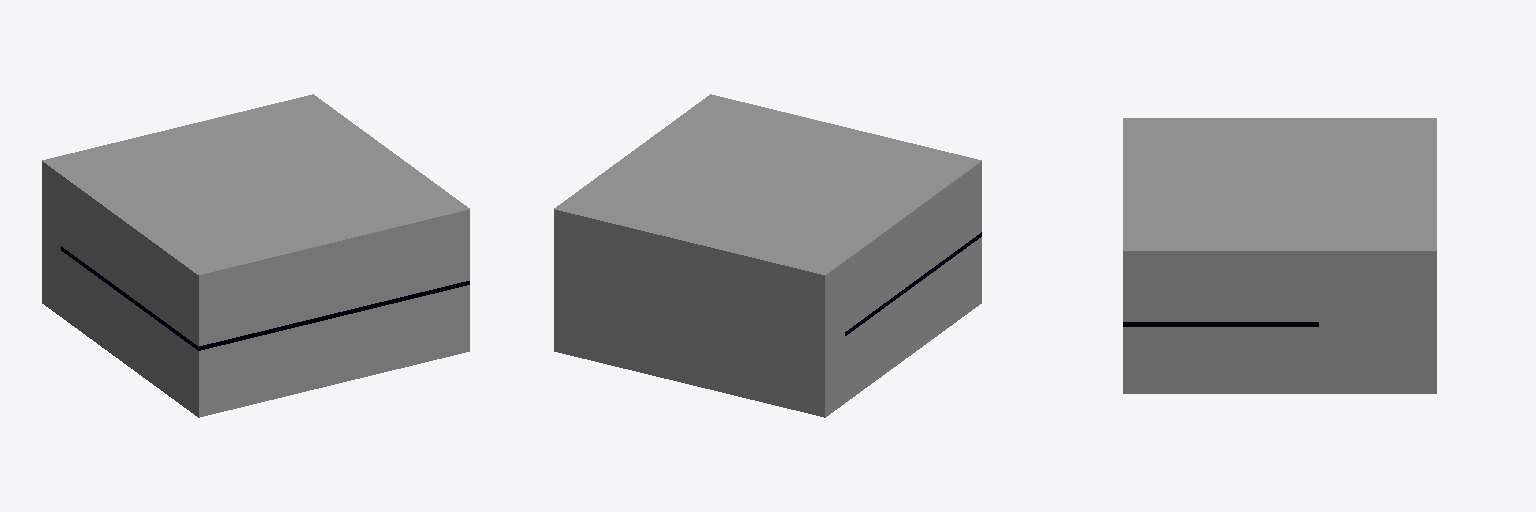
The model's file is room.obj.
3 views of the same model, side by side, from view 1: azimuth 30°, elevation 25°; view 2: azimuth 150°, elevation 25°; view 3: azimuth 270°, elevation 25° (orthographic).
Visible parts, largest first — view 1: Cube, Cube.001; view 2: Cube, Cube.001; view 3: Cube, Cube.001.
Boxes of the visible parts, x1=… form: Cube: x1=42, y1=94, x2=469, y2=417; Cube.001: x1=61, y1=246, x2=469, y2=350; Cube: x1=554, y1=94, x2=981, y2=417; Cube.001: x1=845, y1=232, x2=981, y2=335; Cube: x1=1123, y1=118, x2=1436, y2=393; Cube.001: x1=1123, y1=322, x2=1318, y2=326.
Size of the model in its own units: 5.76 by 2.88 by 5.76.